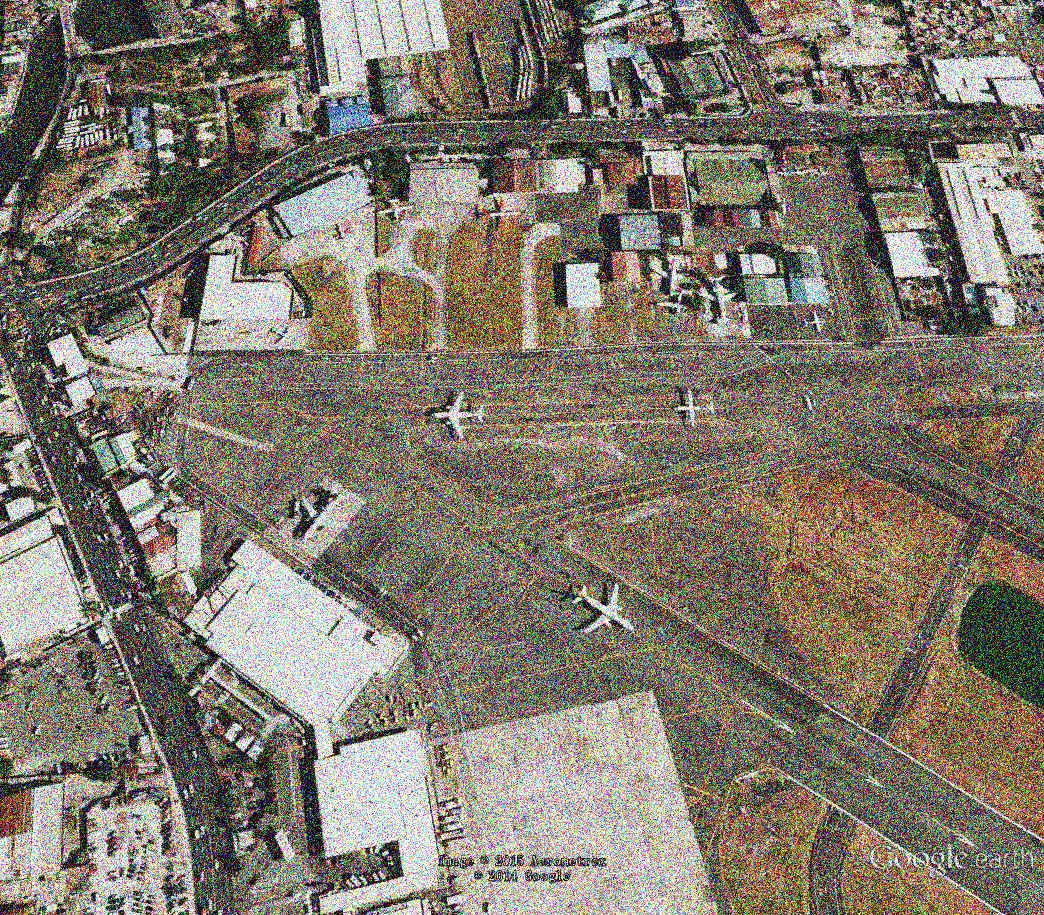aircraft: (421, 388, 490, 447), (570, 580, 639, 639), (295, 484, 349, 546), (691, 271, 745, 328), (651, 246, 697, 300), (669, 385, 720, 433), (478, 195, 523, 237), (372, 195, 415, 220), (799, 309, 829, 336), (267, 322, 300, 346)
